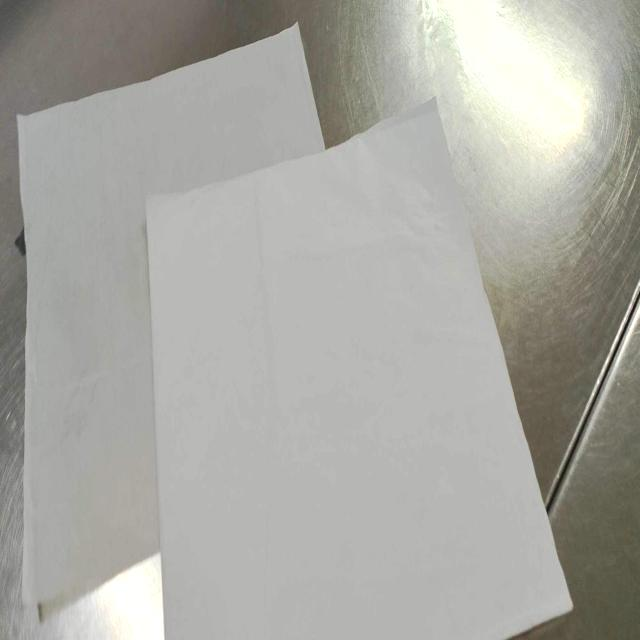Infectious: (144, 95, 576, 639)
Sharps: (542, 278, 640, 515)
